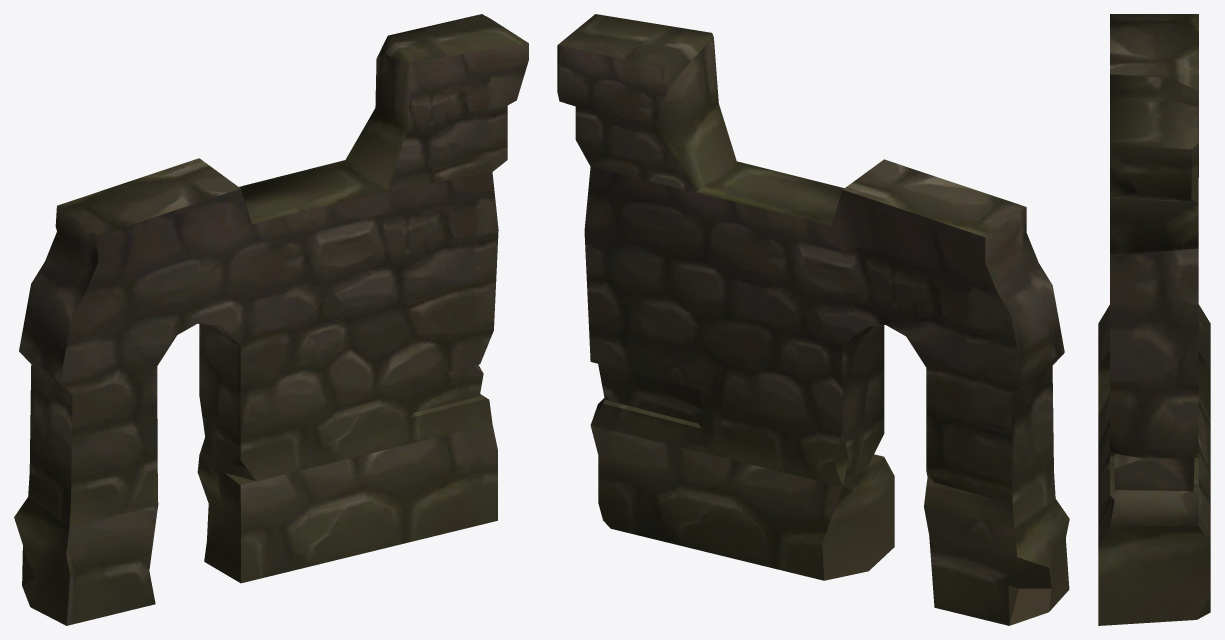
File: environment_common_Stonewall_003_c.FBX
3 views of the same model, side by side, from view 1: azimuth 30°, elevation 25°; view 2: azimuth 150°, elevation 25°; view 3: azimuth 270°, elevation 25° (orthographic). The views are drawn at different scales.
Visible parts, largest first — view 1: environment_common_Stonewall_003_c; view 2: environment_common_Stonewall_003_c; view 3: environment_common_Stonewall_003_c.
Part boxes in pixels (box(x1,y1,x2,y2)): environment_common_Stonewall_003_c: box(14, 14, 528, 625); environment_common_Stonewall_003_c: box(557, 14, 1069, 625); environment_common_Stonewall_003_c: box(1098, 14, 1210, 625).
Bounding box in the file's own units: 303 × 287 × 57.43.
